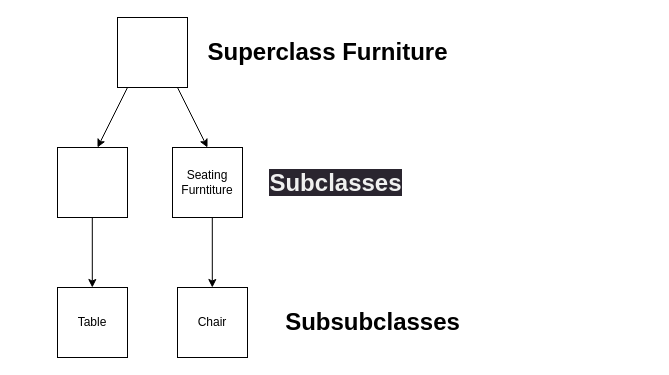
The diagram is 669 pixels wide and 375 high, and some of its shapes have lost their labels. Each missing label, with the centre of its shape:
"Furniture" belongs at (152,52).
"Surface Furntiture" belongs at (92,182).
